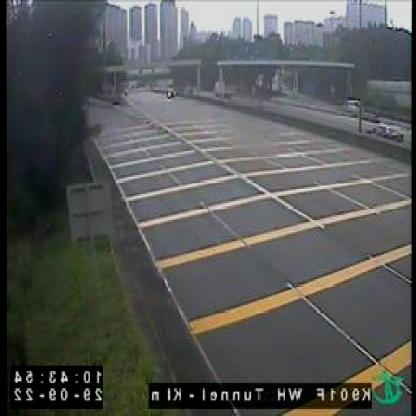Car: (165, 87, 178, 97)
